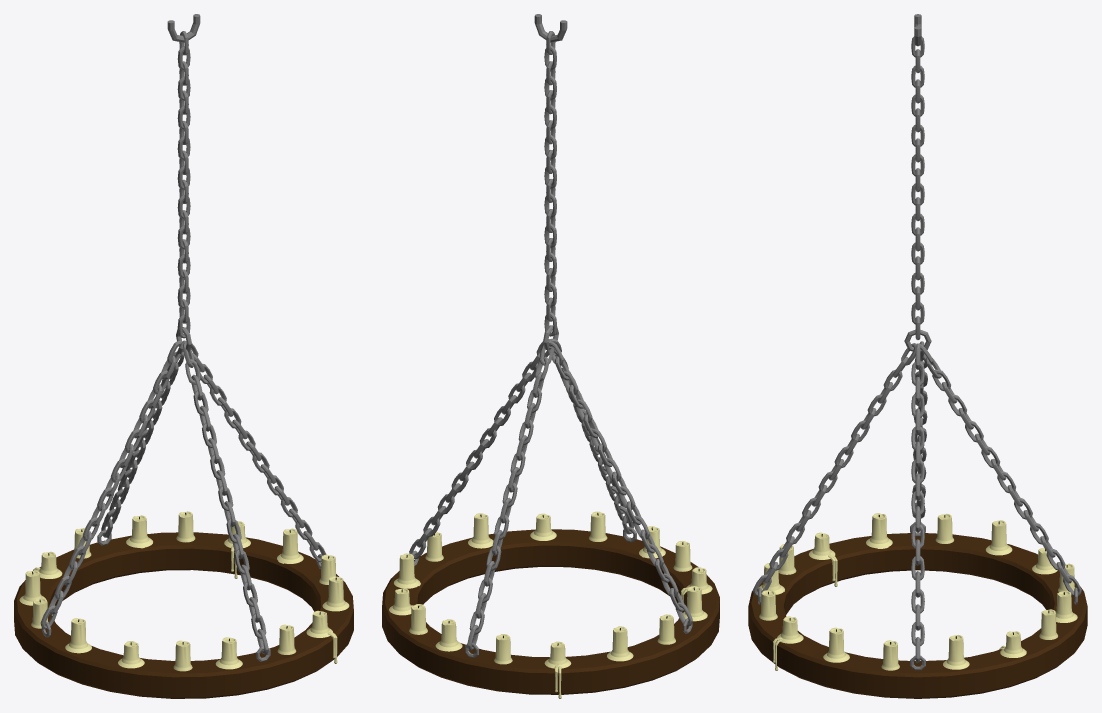
File: chandelier.fbx
3 renders of one model, left to right at view 1: azimuth 30°, elevation 25°; view 2: azimuth 150°, elevation 25°; view 3: azimuth 270°, elevation 25°, orthographic.
Visible parts, largest first — view 1: Chandelier; view 2: Chandelier; view 3: Chandelier.
Part boxes in pixels (x1=…): Chandelier: x1=14, y1=14, x2=353, y2=698; Chandelier: x1=382, y1=14, x2=719, y2=698; Chandelier: x1=748, y1=14, x2=1087, y2=698.
Size of the model in its own units: 138 by 138 by 274.
